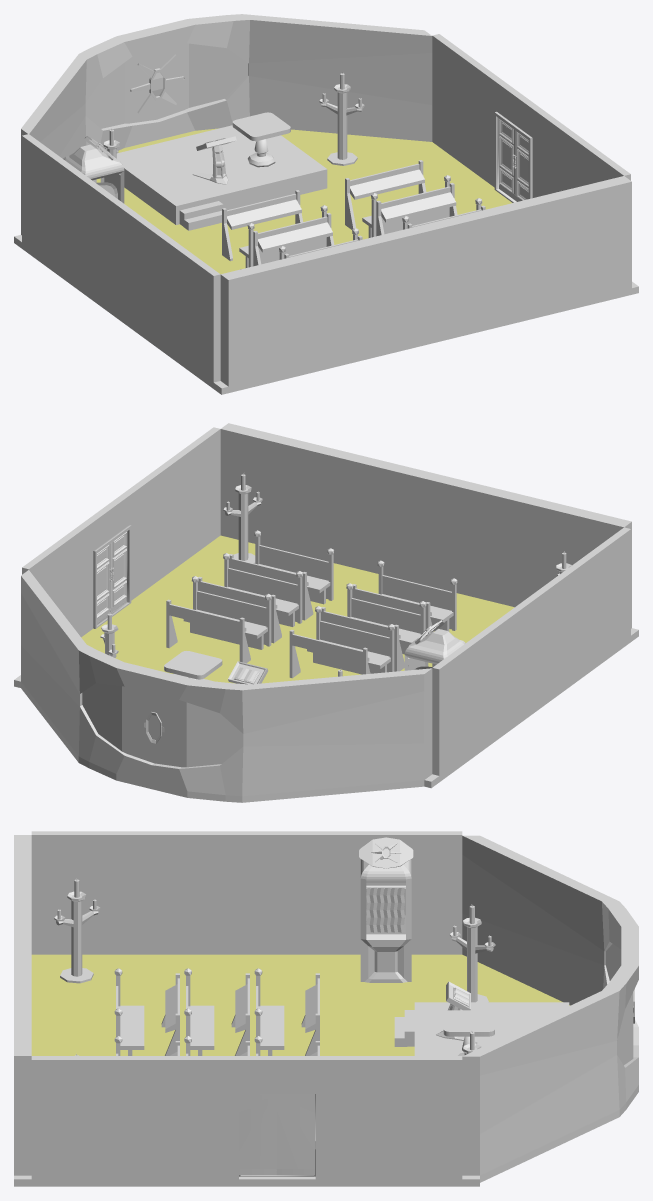
The model's file is room1.fbx.
3 renders of one model, top to bottom at view 1: azimuth 30°, elevation 25°; view 2: azimuth 150°, elevation 25°; view 3: azimuth 270°, elevation 25°, orthographic. The views are drawn at different scales.
Parts seen in each view (by area): view 1: woody walls, wood ground room1, level, modlidło.005, glass, Table, Cube, candle holder.001, door1, eye ornament, door rame, door2 (+1 smaller); view 2: woody walls, modlidło.005, wood ground room1, glass, candle holder.001, Cube, door2, Table, door rame, door1; view 3: woody walls, wood ground room1, modlidło.005, level, Cube, door1, door2, candle holder.001, Cube.001, Table, glass, glass.001 (+1 smaller).
Part boxes in pixels (box(x1,y1,x2,y2)): woody walls: box(14, 14, 638, 394); wood ground room1: box(96, 128, 511, 274); level: box(116, 125, 327, 230); modlidło.005: box(222, 160, 485, 267); glass: box(85, 43, 248, 128); Table: box(232, 112, 290, 167); Cube: box(63, 144, 124, 203); candle holder.001: box(103, 84, 364, 165); door1: box(499, 118, 515, 200); eye ornament: box(130, 54, 184, 114); door rame: box(494, 111, 532, 202); door2: box(514, 131, 528, 201); woody walls: box(14, 423, 638, 802); modlidło.005: box(166, 530, 457, 678); wood ground room1: box(81, 535, 514, 683); glass: box(82, 683, 243, 767); candle holder.001: box(100, 485, 571, 657); Cube: box(404, 629, 465, 670); door2: box(110, 532, 126, 612); Table: box(164, 651, 222, 679); door rame: box(93, 525, 131, 628); door1: box(97, 543, 111, 623); woody walls: box(14, 831, 638, 1186); wood ground room1: box(31, 954, 569, 1055); modlidło.005: box(114, 968, 319, 1055); level: box(394, 1002, 569, 1055); Cube: box(360, 859, 411, 982); door1: box(276, 1094, 314, 1175); door2: box(239, 1094, 276, 1175); candle holder.001: box(54, 891, 495, 1053); Cube.001: box(366, 885, 405, 932); Table: box(443, 1010, 494, 1056); glass: box(605, 944, 633, 1065); glass.001: box(359, 837, 413, 868).
Bounding box in the file's own units: 1000 × 287 × 1155.
